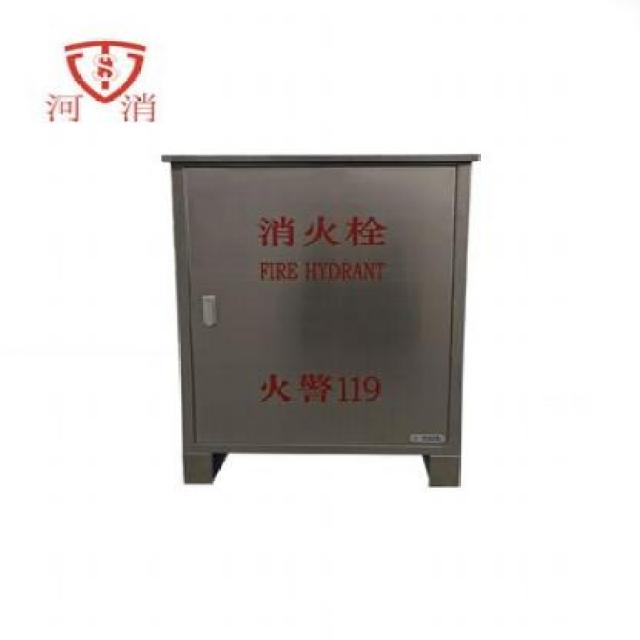firehydrant: (152, 148, 488, 493)
